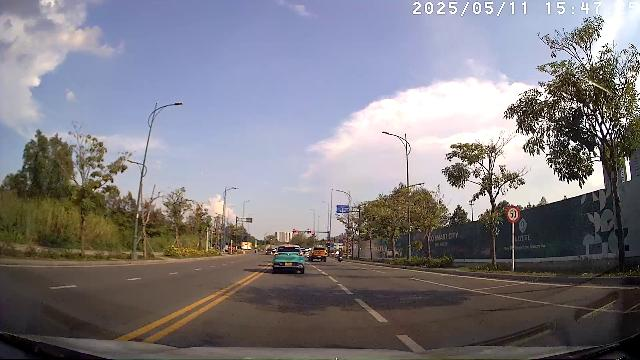127-toc-do-toi-da-50: (506, 206, 520, 222)
